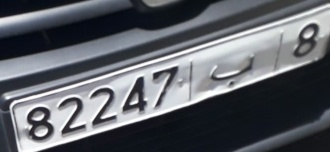2: (54, 92, 89, 137), (88, 83, 118, 125)
4: (122, 76, 151, 115)
7: (150, 63, 182, 111)
8: (20, 104, 55, 144), (292, 21, 319, 59)
b: (205, 51, 260, 87)
